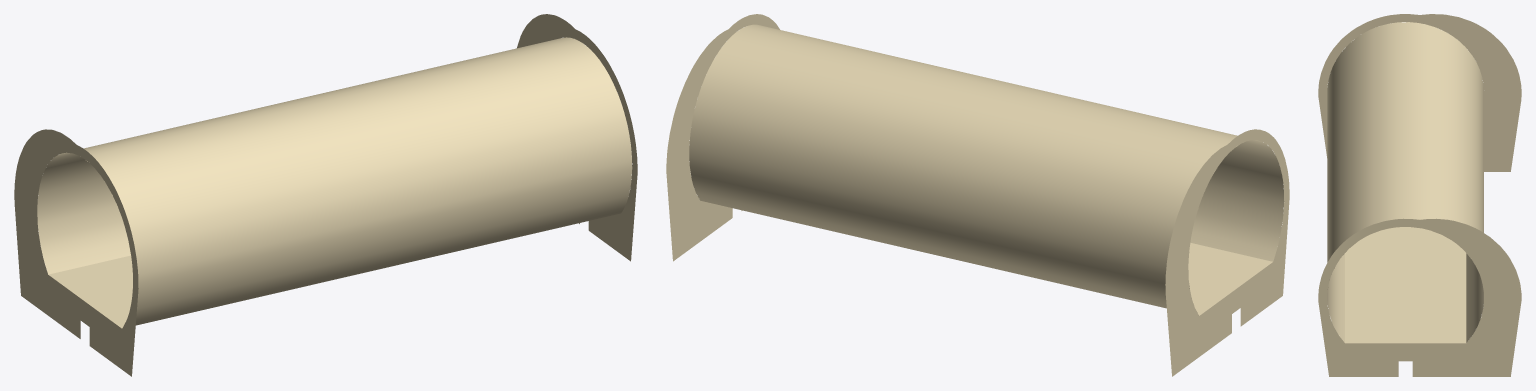
The model's file is 6-decimated-smoothed.FBX.
3 views of the same model, side by side, from view 1: azimuth 30°, elevation 25°; view 2: azimuth 150°, elevation 25°; view 3: azimuth 270°, elevation 25° (orthographic). The views are drawn at different scales.
Visible parts, largest first — view 1: 6-decimated-smoothed; view 2: 6-decimated-smoothed; view 3: 6-decimated-smoothed.
Boxes of the visible parts, x1,y1,x2,y2 form: 6-decimated-smoothed: (14,14,637,376); 6-decimated-smoothed: (666,14,1289,376); 6-decimated-smoothed: (1318,14,1521,376).
Bounding box in the file's own units: 1323 × 570 × 505.
